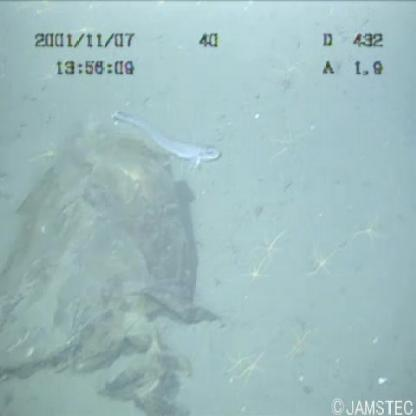Bio: (103, 101, 235, 172)
Rác: (1, 114, 248, 416)
